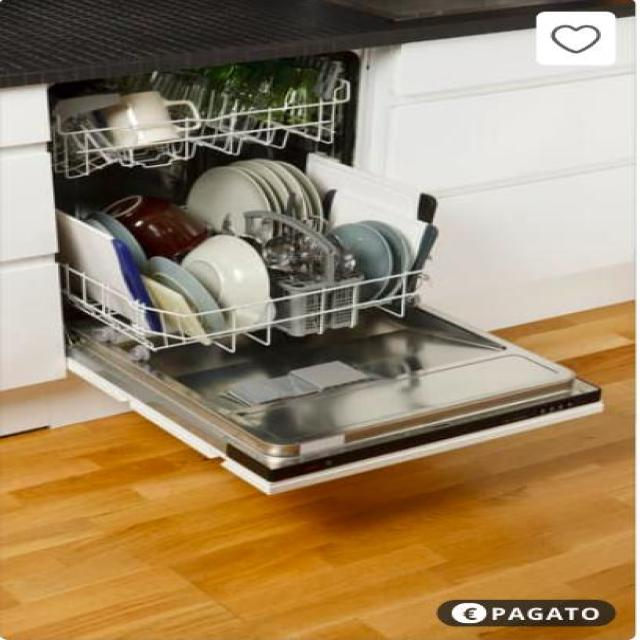dishwasher: (45, 51, 615, 498)
